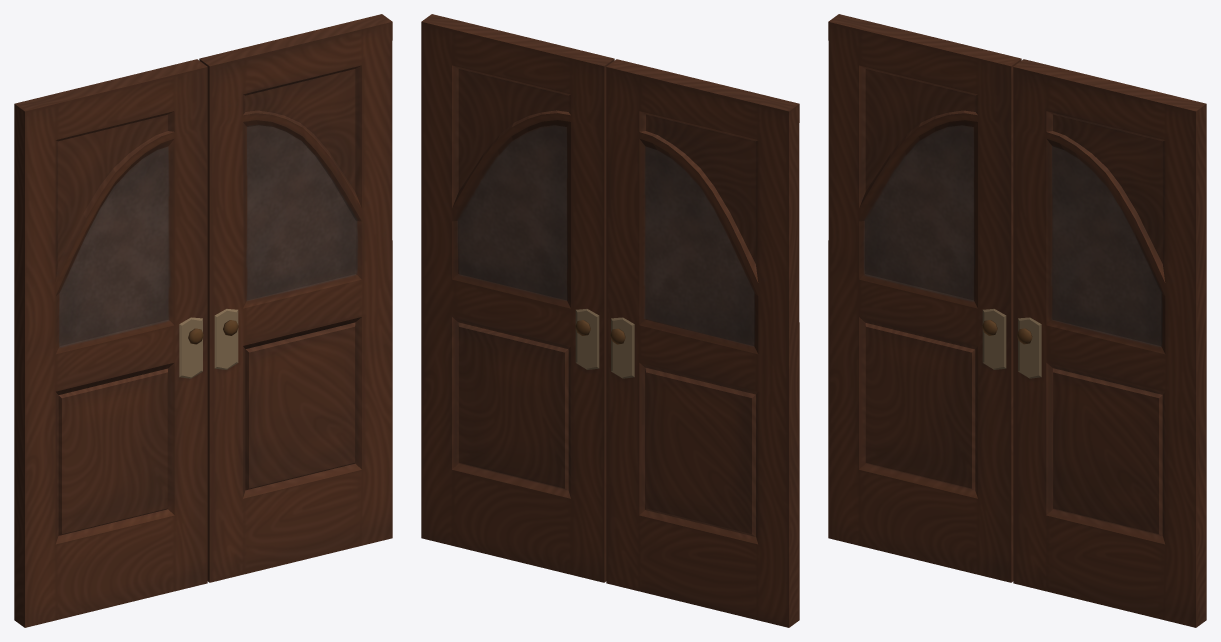
The model's file is FYP_asset_diningRoom_doubleDoor.fbx.
3 views of the same model, side by side, from view 1: azimuth 30°, elevation 25°; view 2: azimuth 150°, elevation 25°; view 3: azimuth 330°, elevation 25° (orthographic).
Parts seen in each view (by area): view 1: door_02, door_01; view 2: door_02, door_01; view 3: door_01, door_02.
Boxes of the visible parts, x1,y1,x2,y2 form: door_02: (14, 59, 207, 627); door_01: (199, 14, 392, 582); door_02: (606, 59, 799, 627); door_01: (421, 14, 614, 582); door_01: (1013, 59, 1206, 627); door_02: (828, 14, 1021, 582).
Size of the model in its own units: 60.3 by 80.91 by 6.88.
